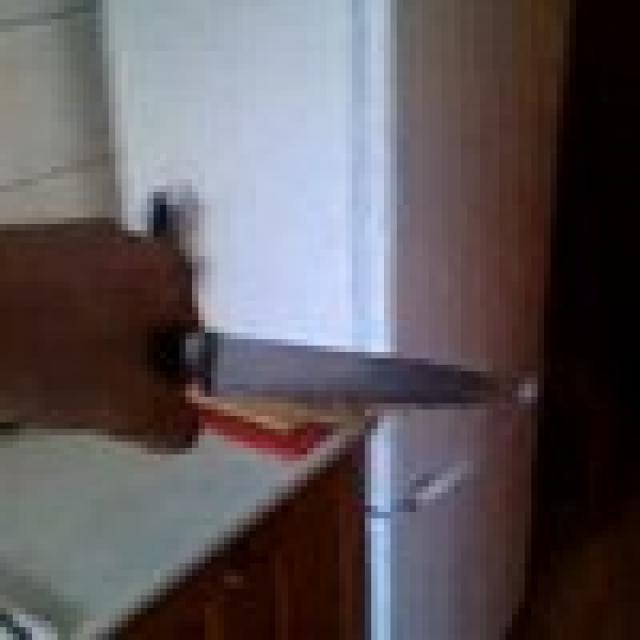knife: (167, 307, 519, 435)
